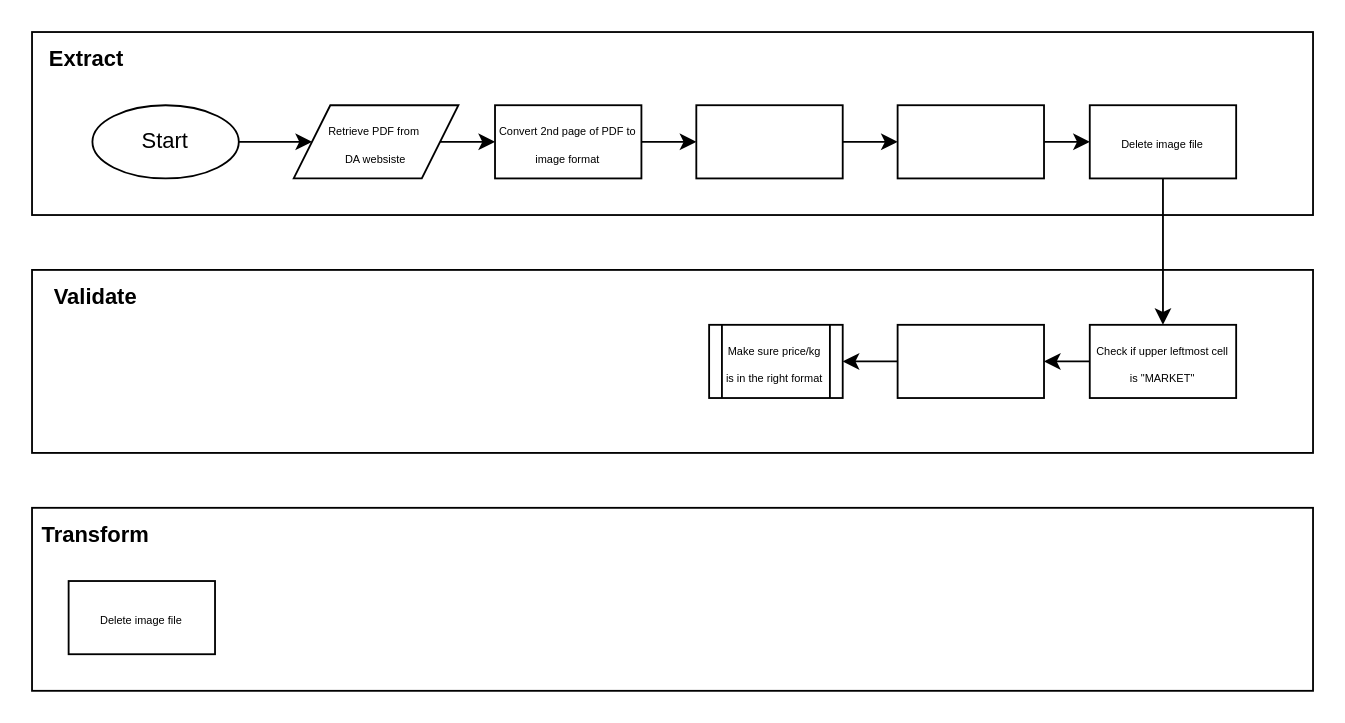
Image size: 1345x723. Some labels were removed from this diagram. The box of each missing label's shape, as (x1, y1, x2, y2) in pixels:
Convert image to table: (896, 103, 1044, 178)
Delete PDF file: (694, 103, 843, 178)
Iterate cell per cell: (896, 323, 1044, 398)
